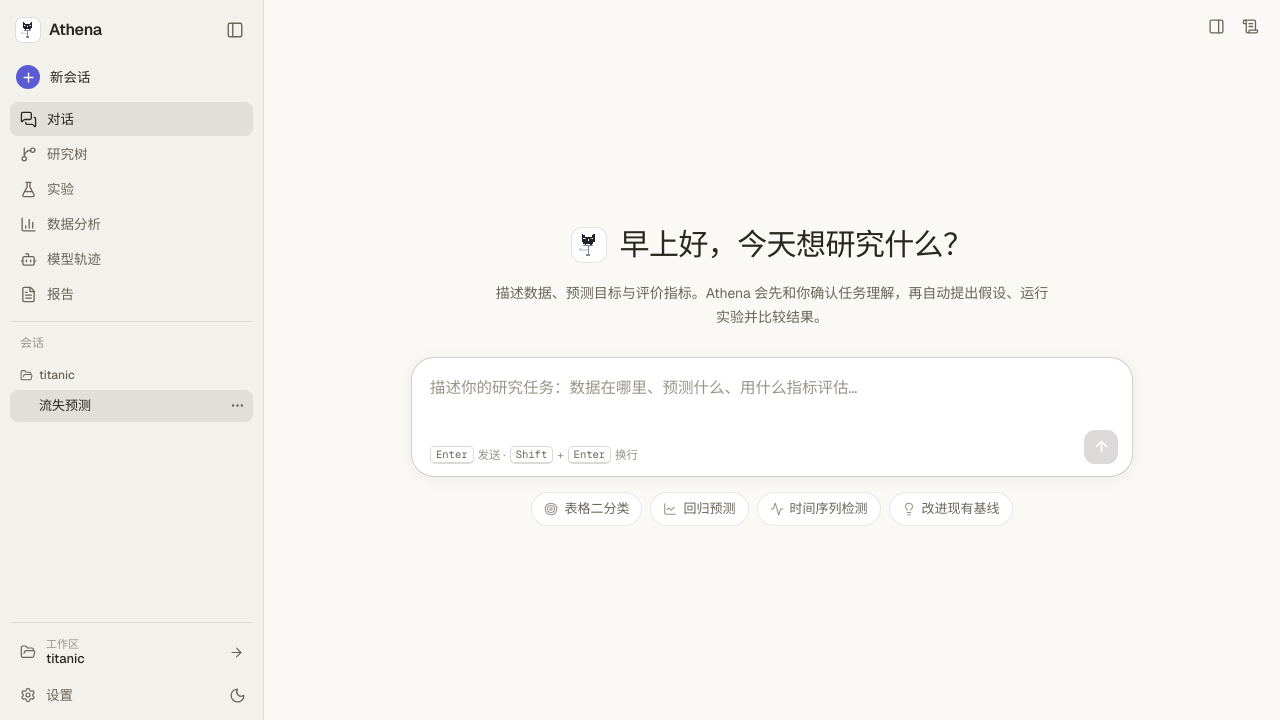
Test: AppShell › keeps the session when deletion is cancelled
Click the button named "更多操作 流失预测" at (237, 406), box [224,393,250,419]
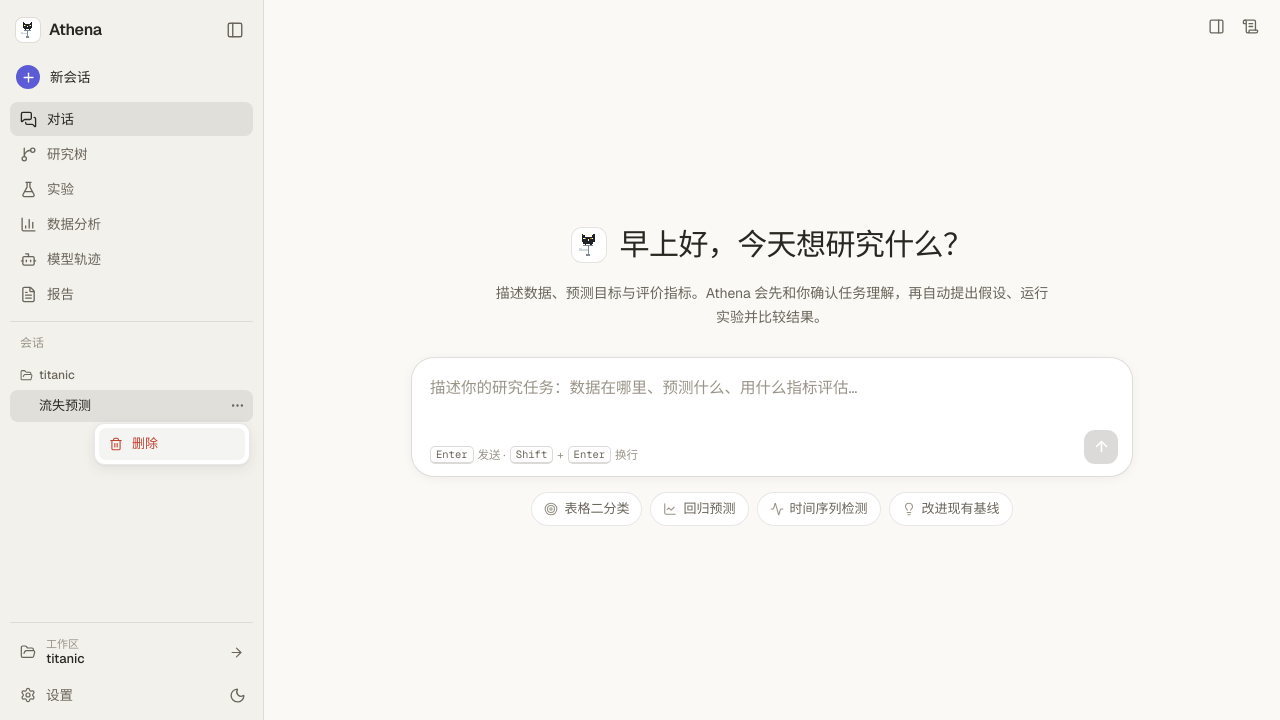
Click the menu item "删除" at (172, 444), box [99,428,245,460]
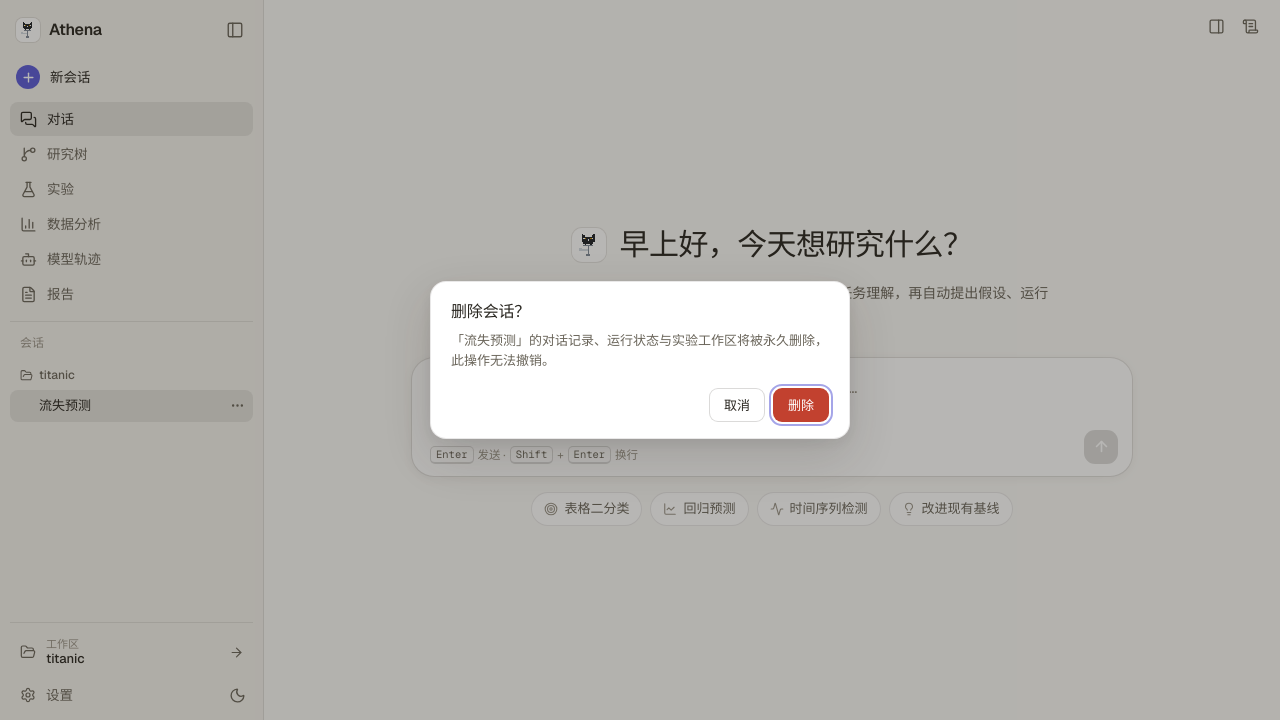
Click the button "取消" at (737, 405), box [709,388,765,422]
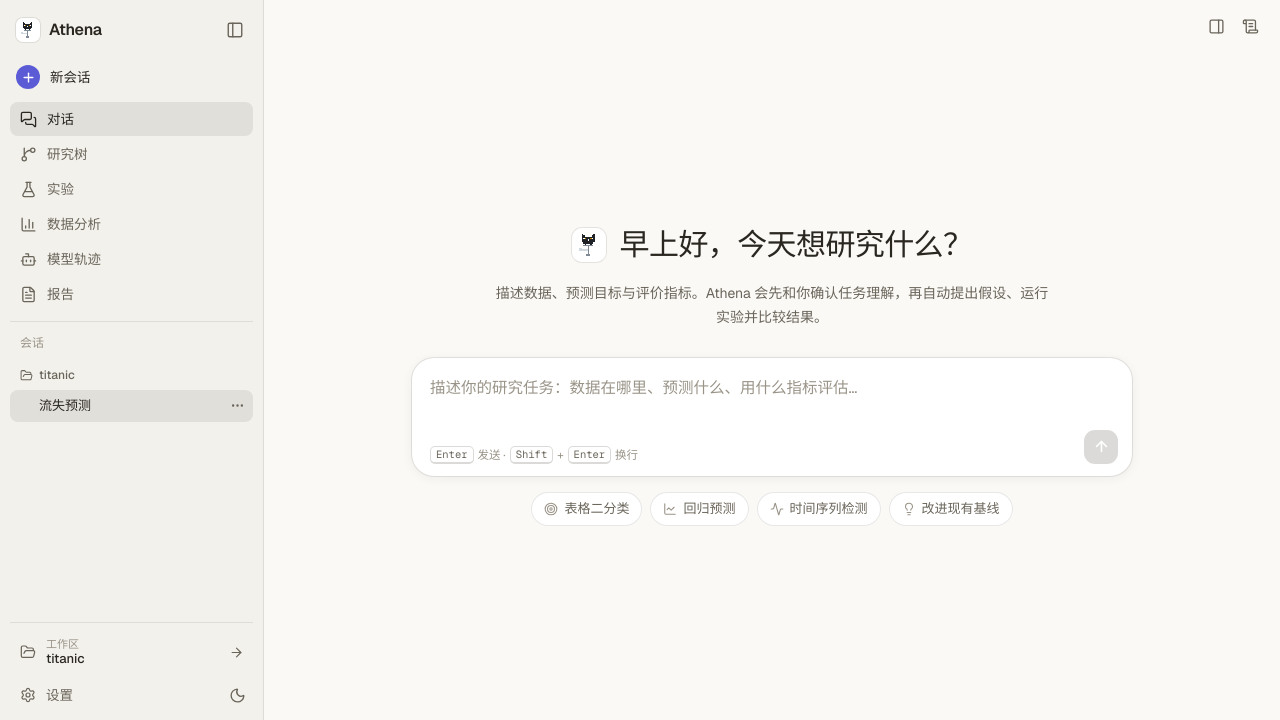
Result: the dialog is gone
